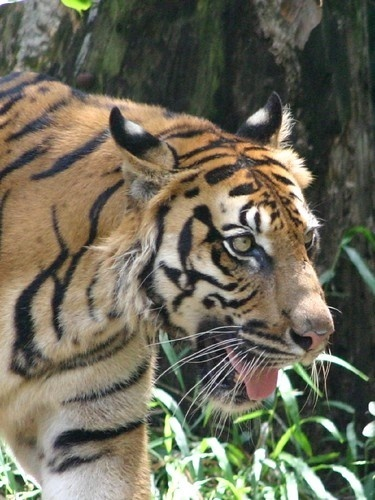tigre: (1, 69, 335, 496)
